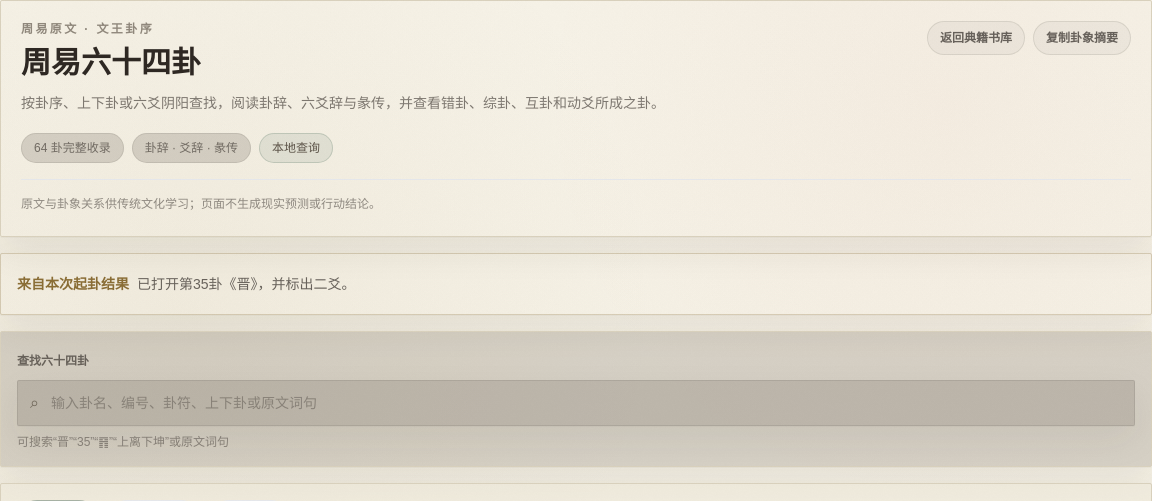
Test case: AncientTextSplitReader › 按本次起卦结果展示周易本卦、动爻与变卦，并可返回书库
Check: the heading "周易六十四卦" is shown, box [21,46,201,79]
Check: the text "来自本次起卦结果" is shown, box [17,276,129,292]
Click the button "返回典籍书库" at (976, 38), box [927,21,1025,55]
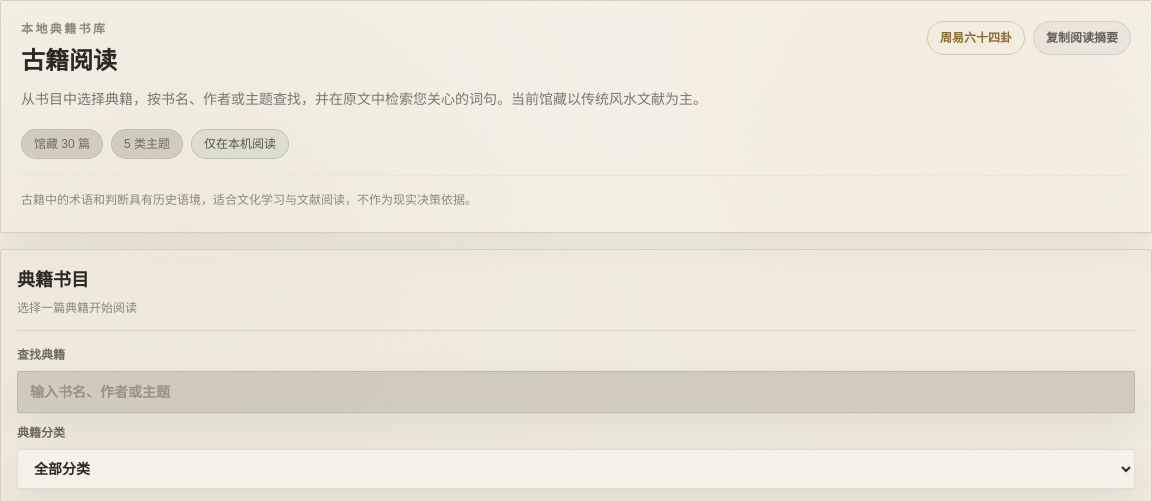
Check: the heading "典籍书目" is shown, box [17,270,89,290]
